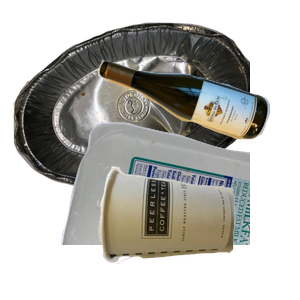glass: (95, 57, 300, 189)
metal: (11, 20, 251, 200)
plastic: (58, 120, 298, 300)
trash: (95, 164, 300, 300)
